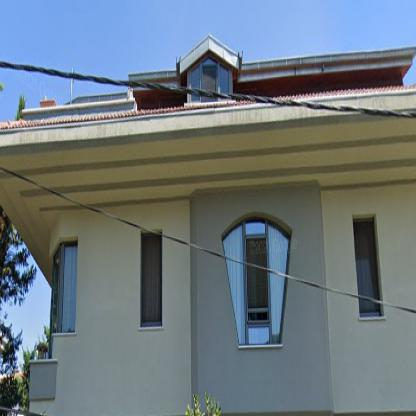window: (224, 219, 290, 344), (354, 222, 379, 312), (51, 244, 76, 331), (142, 235, 161, 326), (192, 56, 228, 94)
